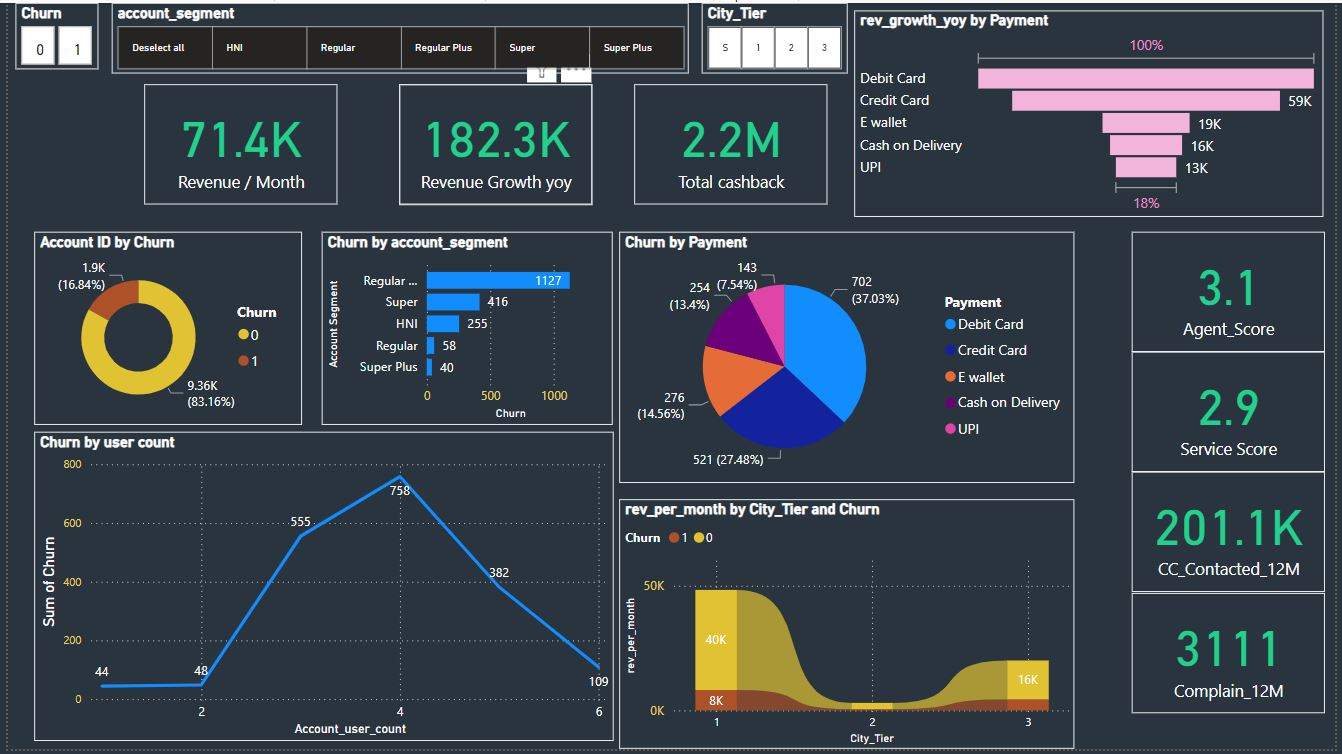

The page's visual inventory and layout, read from the dashboard file:
{"tool":"powerbi","page":{"name":"Page 1","canvas":[1280,720],"ordinal":0},"visuals":[{"type":"donutChart","fields":{"Y":["CountNonNull(Sheet1.AccountID)"],"Series":["Sheet1.Churn"]},"box":[25,221,258,186],"z":0},{"type":"clusteredBarChart","fields":{"Y":["Sum(Sheet1.Churn)"],"Category":["Sheet1.account_segment"]},"box":[303,221,281,186],"z":1000},{"type":"card","fields":{"Values":["Sum(Sheet1.rev_per_month)"]},"box":[131,79,186,116],"z":2000},{"type":"advancedSlicerVisual","fields":{"Values":["Sheet1.Churn"]},"box":[7.3,0,79.7,64],"z":3000},{"type":"card","fields":{"Values":["Sum(Sheet1.rev_growth_yoy)"]},"box":[378,79,186,116],"z":4000},{"type":"card","fields":{"Values":["Avg(Sheet1.Service_Score)"]},"box":[1084,337,186,116],"z":5000},{"type":"card","fields":{"Values":["Sum(Sheet1.Complain_ly)"]},"box":[1084,569,186,116],"z":6000},{"type":"card","fields":{"Values":["Avg(Sheet1.CC_Agent_Score)"]},"box":[1084,221,186,116],"z":7000},{"type":"card","fields":{"Values":["Sum(Sheet1.cashback)"]},"box":[605,79,186,116],"z":8000},{"type":"lineChart","title":"Churn by user count","fields":{"Category":["Sheet1.Account_user_count"],"Y":["Sum(Sheet1.Churn)"]},"box":[25,414,559,298],"z":9000},{"type":"advancedSlicerVisual","fields":{"Values":["Sheet1.account_segment"]},"box":[99.7,0,557.1,68.2],"z":10000},{"type":"ribbonChart","fields":{"Category":["Sheet1.City_Tier"],"Series":["Sheet1.Churn"],"Y":["Sum(Sheet1.rev_per_month)"]},"box":[590,479,439,241],"z":11000},{"type":"card","fields":{"Values":["Sum(Sheet1.CC_Contacted_LY)"]},"box":[1084,453,186,116],"z":12000},{"type":"pieChart","fields":{"Y":["Sum(Sheet1.Churn)"],"Category":["Sheet1.Payment"]},"box":[590,221,439,242],"z":13000},{"type":"advancedSlicerVisual","fields":{"Values":["Sheet1.City_Tier"]},"box":[669,0,141,68],"z":14000},{"type":"funnel","title":"rev_growth_yoy by Payment","fields":{"Category":["Sheet1.Payment"],"Y":["Sum(Sheet1.rev_growth_yoy)"]},"box":[817,7,453,199],"z":16000}]}

Visuals, with their boxes in screenshot pixels (x1, y1, x2, y2), scaled from the page's 1280x720 canvas onto the 1342x754 screenshot:
donutChart - CountNonNull(Sheet1.AccountID) x Sheet1.Churn: crop(26, 231, 297, 426)
clusteredBarChart - Sum(Sheet1.Churn) x Sheet1.account_segment: crop(318, 231, 612, 426)
card - Sum(Sheet1.rev_per_month): crop(137, 83, 332, 204)
advancedSlicerVisual - Sheet1.Churn: crop(8, 0, 91, 67)
card - Sum(Sheet1.rev_growth_yoy): crop(396, 83, 591, 204)
card - Avg(Sheet1.Service_Score): crop(1137, 353, 1332, 474)
card - Sum(Sheet1.Complain_ly): crop(1137, 596, 1332, 717)
card - Avg(Sheet1.CC_Agent_Score): crop(1137, 231, 1332, 353)
card - Sum(Sheet1.cashback): crop(634, 83, 829, 204)
"Churn by user count" lineChart: crop(26, 434, 612, 746)
advancedSlicerVisual - Sheet1.account_segment: crop(105, 0, 689, 71)
ribbonChart - Sheet1.City_Tier x Sheet1.Churn: crop(619, 502, 1079, 753)
card - Sum(Sheet1.CC_Contacted_LY): crop(1137, 474, 1332, 596)
pieChart - Sum(Sheet1.Churn) x Sheet1.Payment: crop(619, 231, 1079, 485)
advancedSlicerVisual - Sheet1.City_Tier: crop(701, 0, 849, 71)
"rev_growth_yoy by Payment" funnel: crop(857, 7, 1332, 216)
